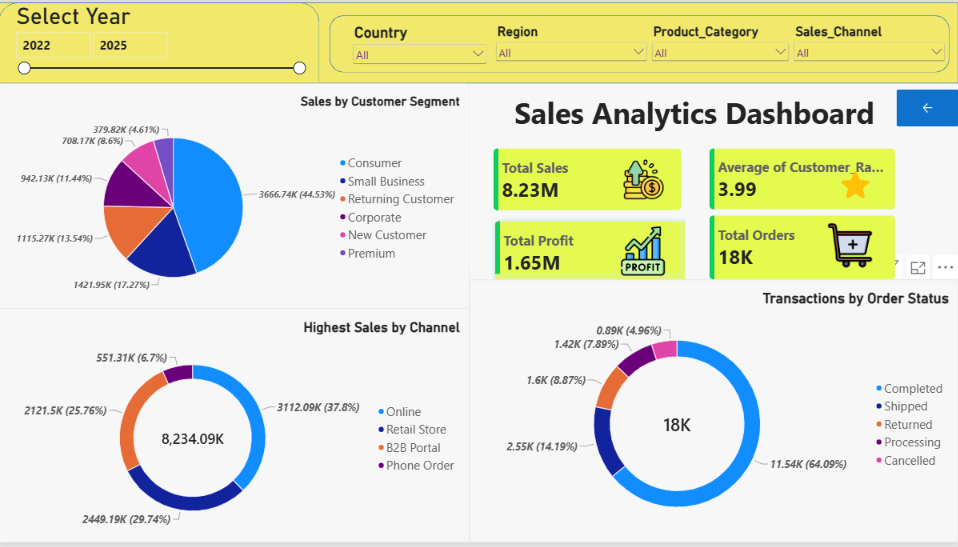

The dashboard page shown, as its layout file describes it:
{"tool":"powerbi","page":{"name":"Page 2","canvas":[1920,1080],"ordinal":1},"visuals":[{"type":"shape","box":[0,0,1920,162],"z":0},{"type":"shape","box":[0,0,642,162],"z":1000},{"type":"shape","box":[662,26,1240,114],"z":2000},{"type":"donutChart","title":"Highest Sales by Channel","fields":{"Category":["sales_dataset.Sales_Channel"],"Y":["Sum(sales_dataset.Sales_Amount)"]},"box":[0,612,942,468],"z":3000},{"type":"pieChart","title":"Sales by Customer Segment","fields":{"Category":["sales_dataset.Customer_Segment"],"Y":["Sum(sales_dataset.Sales_Amount)"]},"box":[0,162,942,450],"z":4000},{"type":"donutChart","title":"Transactions by Order Status","fields":{"Category":["sales_dataset.Order_Status"],"Y":["Count(sales_dataset.Transaction_ID)"]},"box":[942,554,978,526],"z":5000},{"type":"slicer","fields":{"Values":["sales_dataset.Order_Date.Variation.Date Hierarchy.Year"]},"box":[28,0,590,228],"z":6000},{"type":"slicer","fields":{"Values":["sales_dataset.Product_Category"]},"box":[1302,42,284,120],"z":7000},{"type":"slicer","fields":{"Values":["sales_dataset.Region"]},"box":[990,42,312,102],"z":8000},{"type":"slicer","fields":{"Values":["sales_dataset.Sales_Channel"]},"box":[1586,42,312,114],"z":9000},{"type":"slicer","fields":{"Values":["sales_dataset.Country"]},"box":[704,42,278,94],"z":10000},{"type":"cardVisual","fields":{"Data":["Avg(sales_dataset.Customer_Rating)"]},"box":[1422,292,372,122],"z":11000},{"type":"cardVisual","fields":{"Data":["sales_dataset.total_profit"]},"box":[982,426,392,128],"z":12000},{"type":"cardVisual","fields":{"Data":["sales_dataset.total_sale"]},"box":[990,292,376,124],"z":13000},{"type":"cardVisual","fields":{"Data":["sales_dataset.total_order"]},"box":[1422,426,372,128],"z":14000},{"type":"textbox","box":[1608,414,312,150],"z":15000},{"type":"textbox","box":[942.8,179.2,900,98],"z":16000},{"type":"image","box":[1212,314,156,80],"z":16001},{"type":"image","box":[1240,440,98,114],"z":16002},{"type":"image","box":[1642,440,122,92],"z":16003},{"type":"image","box":[1686.6,336.6,56,58],"z":16004},{"type":"actionButton","box":[1795.2,173.7,124.9,74.2],"z":16006}]}

Visuals, with their boxes in screenshot pixels (x1, y1, x2, y2), scaled from the page's 1920x1080 canvas onto the 958x547 screenshot:
shape: 0/0/957/82
shape: 0/0/320/82
shape: 330/13/949/71
"Highest Sales by Channel" donutChart: 0/310/470/546
"Sales by Customer Segment" pieChart: 0/82/470/310
"Transactions by Order Status" donutChart: 470/281/957/546
slicer - sales_dataset.Order_Date.Variation.Date Hierarchy.Year: 14/0/308/115
slicer - sales_dataset.Product_Category: 650/21/791/82
slicer - sales_dataset.Region: 494/21/650/73
slicer - sales_dataset.Sales_Channel: 791/21/947/79
slicer - sales_dataset.Country: 351/21/490/69
cardVisual - Avg(sales_dataset.Customer_Rating): 710/148/895/210
cardVisual - sales_dataset.total_profit: 490/216/686/281
cardVisual - sales_dataset.total_sale: 494/148/682/211
cardVisual - sales_dataset.total_order: 710/216/895/281
textbox: 802/210/957/286
textbox: 470/91/919/140
image: 605/159/683/200
image: 619/223/668/281
image: 819/223/880/269
image: 842/170/869/200
actionButton: 896/88/957/126
